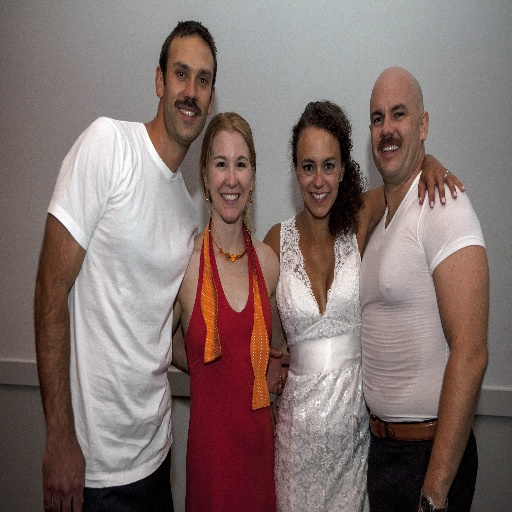hand: (40, 443, 86, 511), (426, 142, 461, 213), (266, 346, 289, 395), (270, 395, 282, 439)
